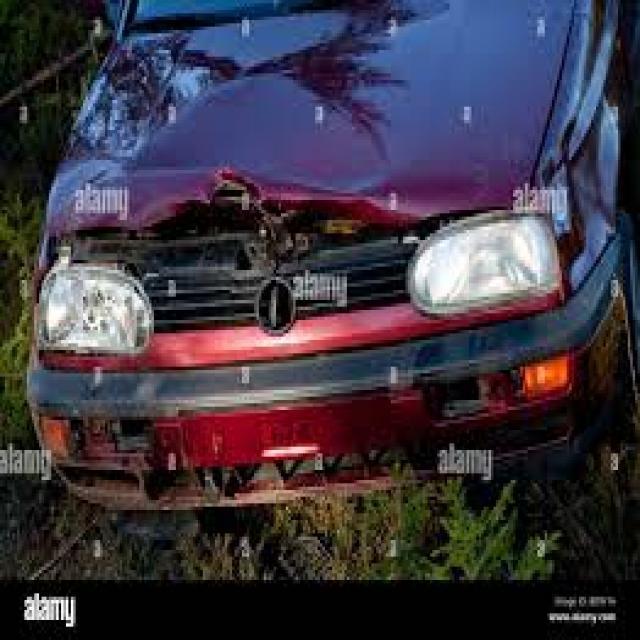damaged-head-light: (40, 240, 150, 352)
